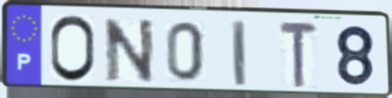0: (163, 19, 209, 85)
8: (334, 23, 377, 90)
I: (230, 18, 249, 88)
N: (101, 17, 157, 85)
O: (48, 13, 98, 85)
T: (277, 19, 321, 90)
